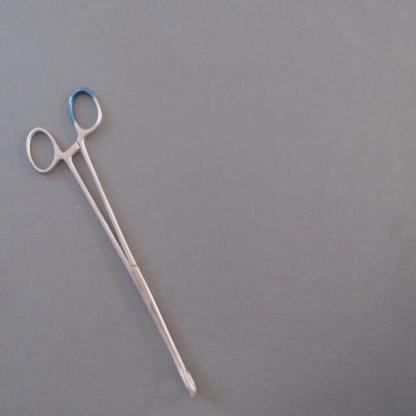Sponge Forceps: (18, 76, 211, 406)
